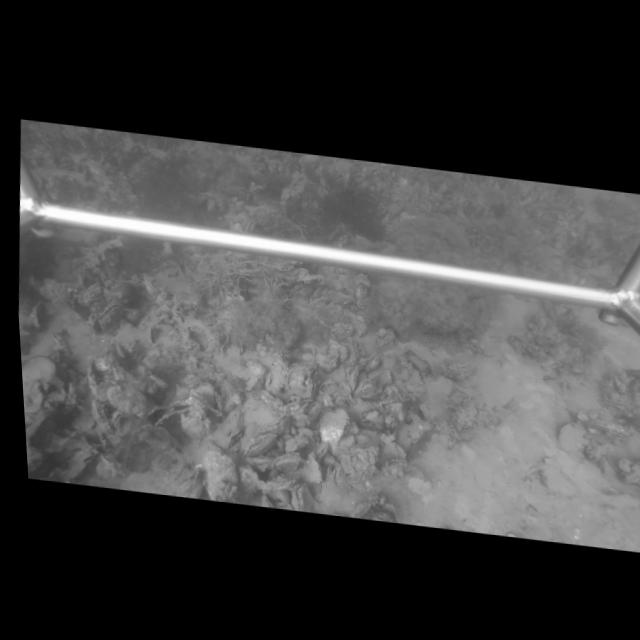Oyster-Closed: (245, 388, 290, 437), (208, 405, 243, 449), (58, 450, 96, 482), (266, 351, 288, 393), (285, 360, 309, 397), (289, 482, 319, 511), (236, 361, 265, 388), (242, 434, 278, 455), (306, 362, 321, 396), (314, 443, 328, 460), (213, 391, 222, 413), (264, 370, 271, 388)
Oyster-Indeterminate: (201, 449, 237, 503), (539, 457, 582, 498), (103, 385, 159, 416), (317, 407, 350, 450), (556, 422, 592, 452)
Oyster-Open: (148, 401, 193, 424), (96, 301, 124, 333), (288, 396, 314, 403)
